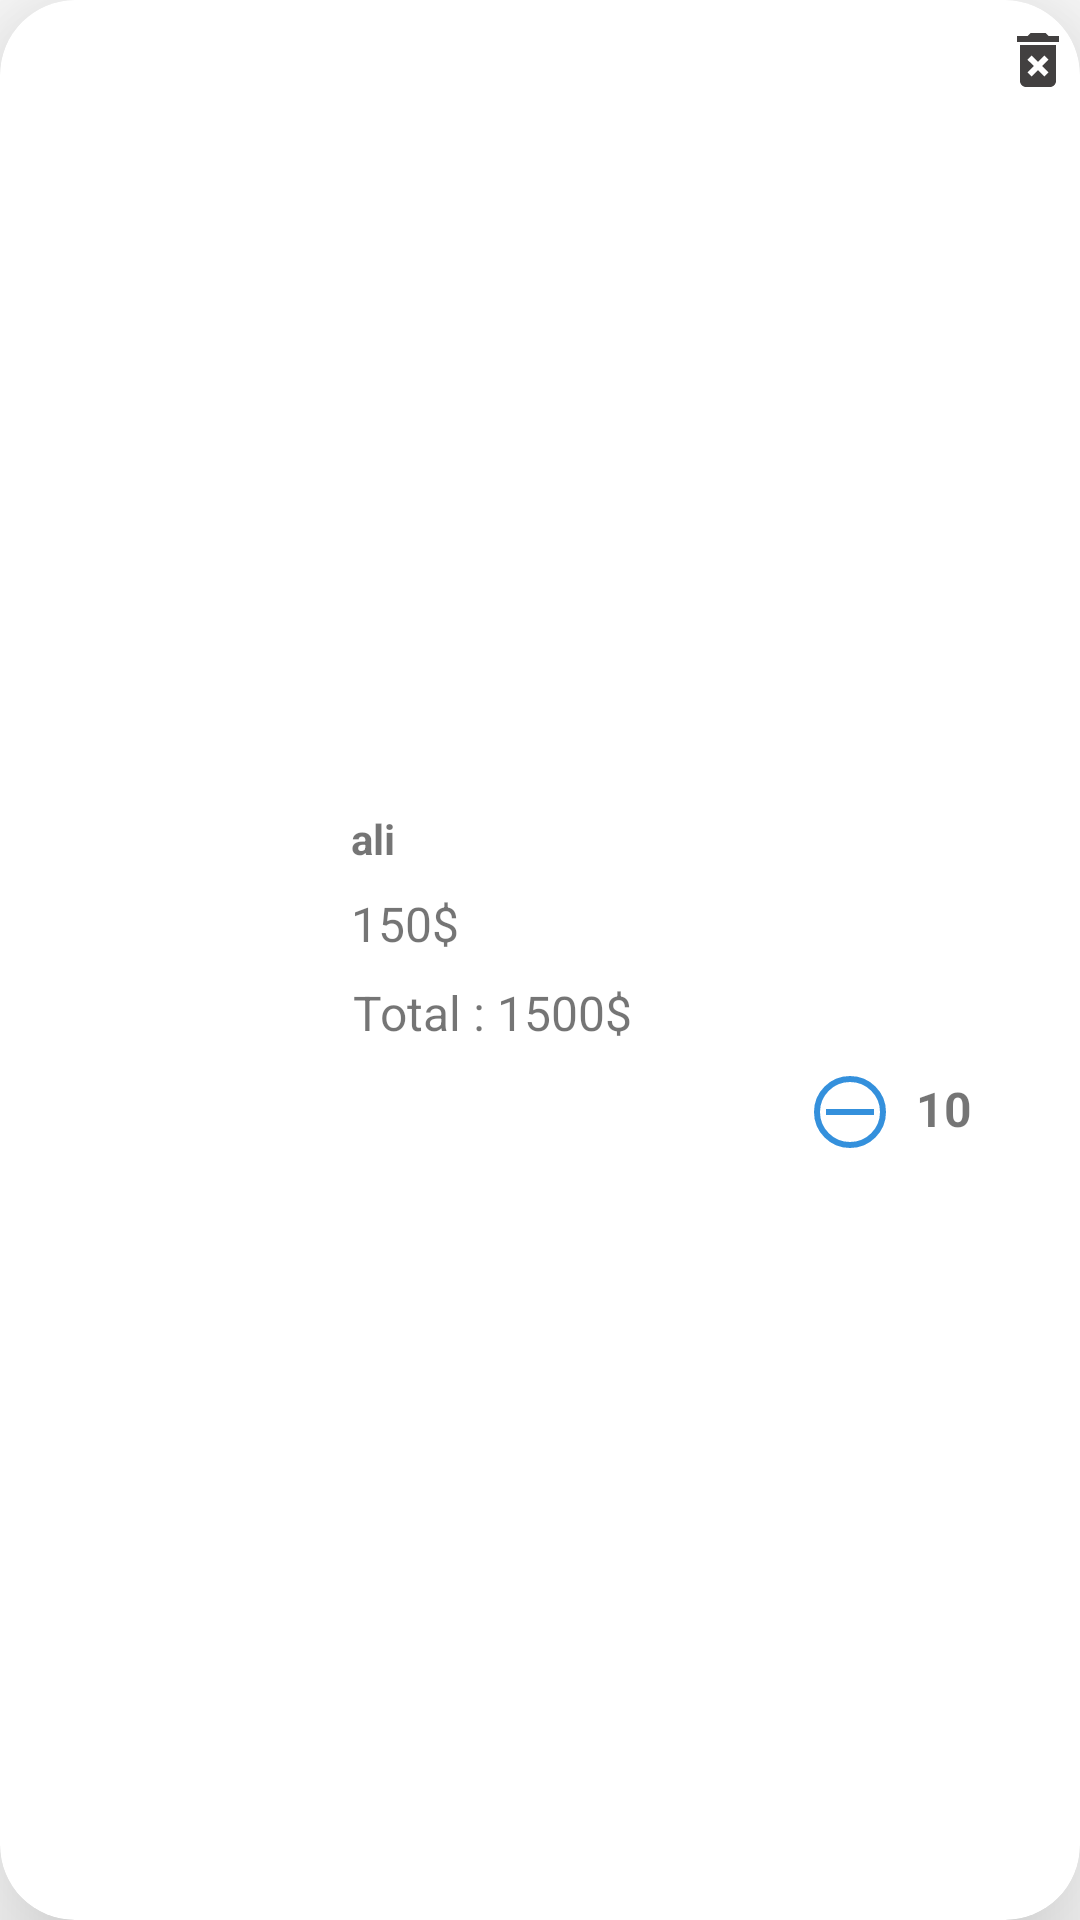

Where to tap for icons on this 1080px x 1920px app screen, as [x,y]:
cart product less back: [850,1112]
delete address: [1038,60]
